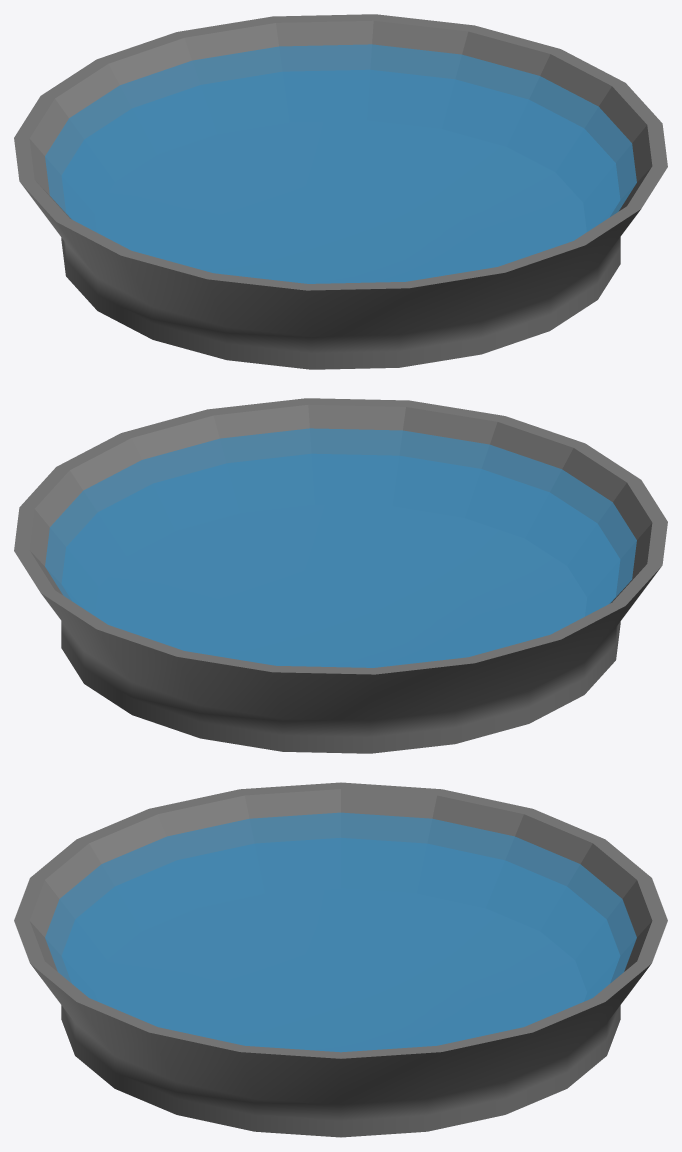
Rendered from eau.fbx.
The picture shows the model from 3 angles, top to bottom: view 1: azimuth 30°, elevation 25°; view 2: azimuth 150°, elevation 25°; view 3: azimuth 270°, elevation 25°; orthographic projection.
Visible parts, largest first — view 1: pCylinder6; view 2: pCylinder6; view 3: pCylinder6.
Part boxes in pixels (x1=…): pCylinder6: x1=14, y1=14, x2=667, y2=369; pCylinder6: x1=14, y1=398, x2=667, y2=753; pCylinder6: x1=14, y1=782, x2=667, y2=1137.
Bounding box in the file's own units: 2.34 × 0.3892 × 2.34.
